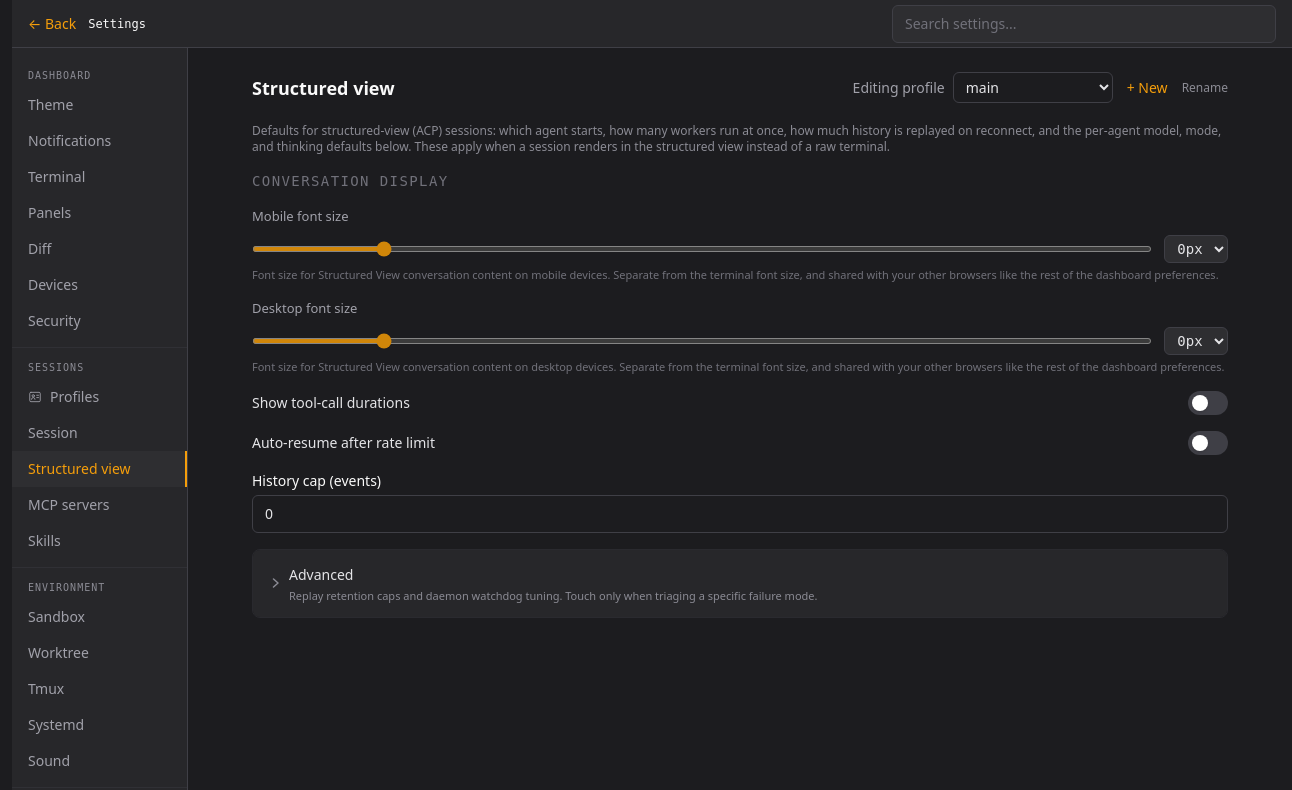
Test: Settings Advanced fold › collapses the fold when switching profiles (#4)
Check: the text "Show tool-call durations" is shown, box [252,393,410,413]
Click the button that starts with "Advanced" at (321, 574), box [253,550,1227,616]
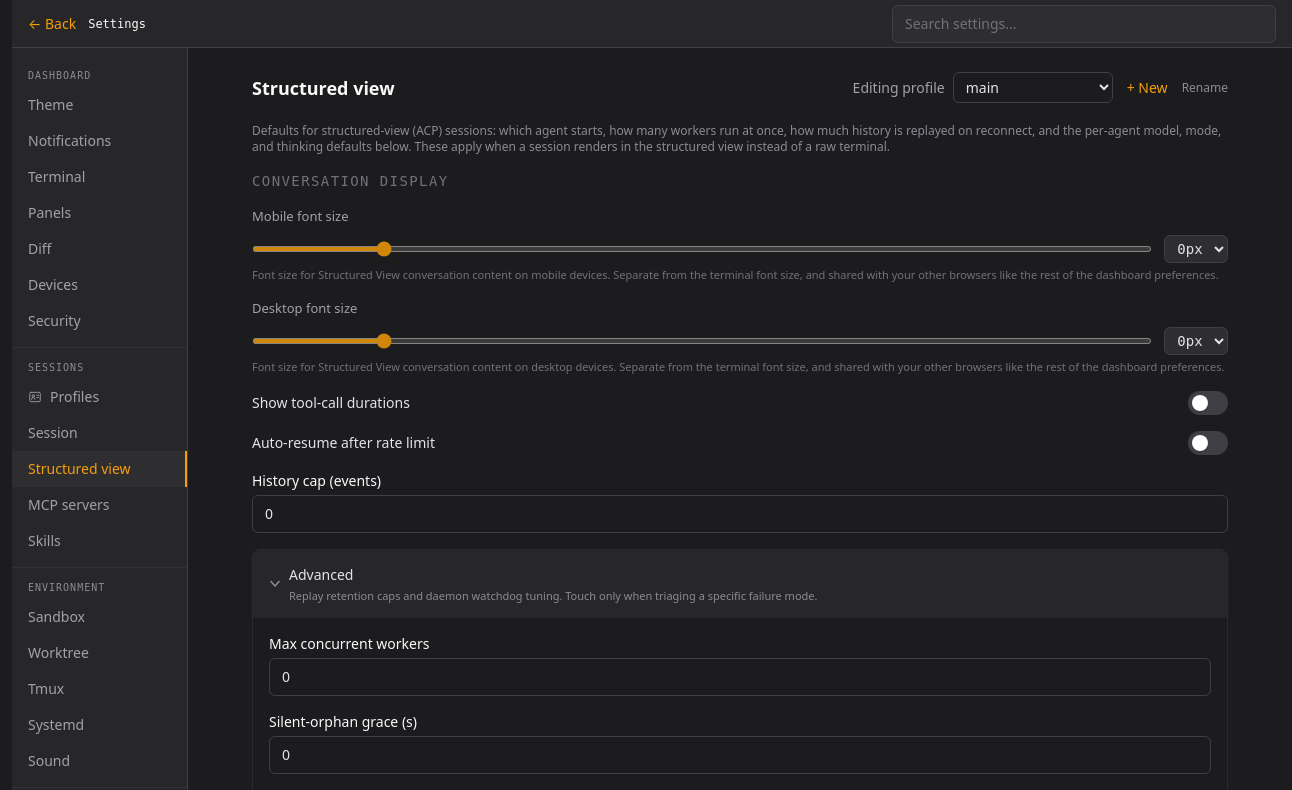
Check: the text "Silent-orphan grace (s)" is shown, box [269,712,417,730]
Select "work" in the dropdown labelled "Editing profile" at (1033, 88), box [953,72,1113,103]
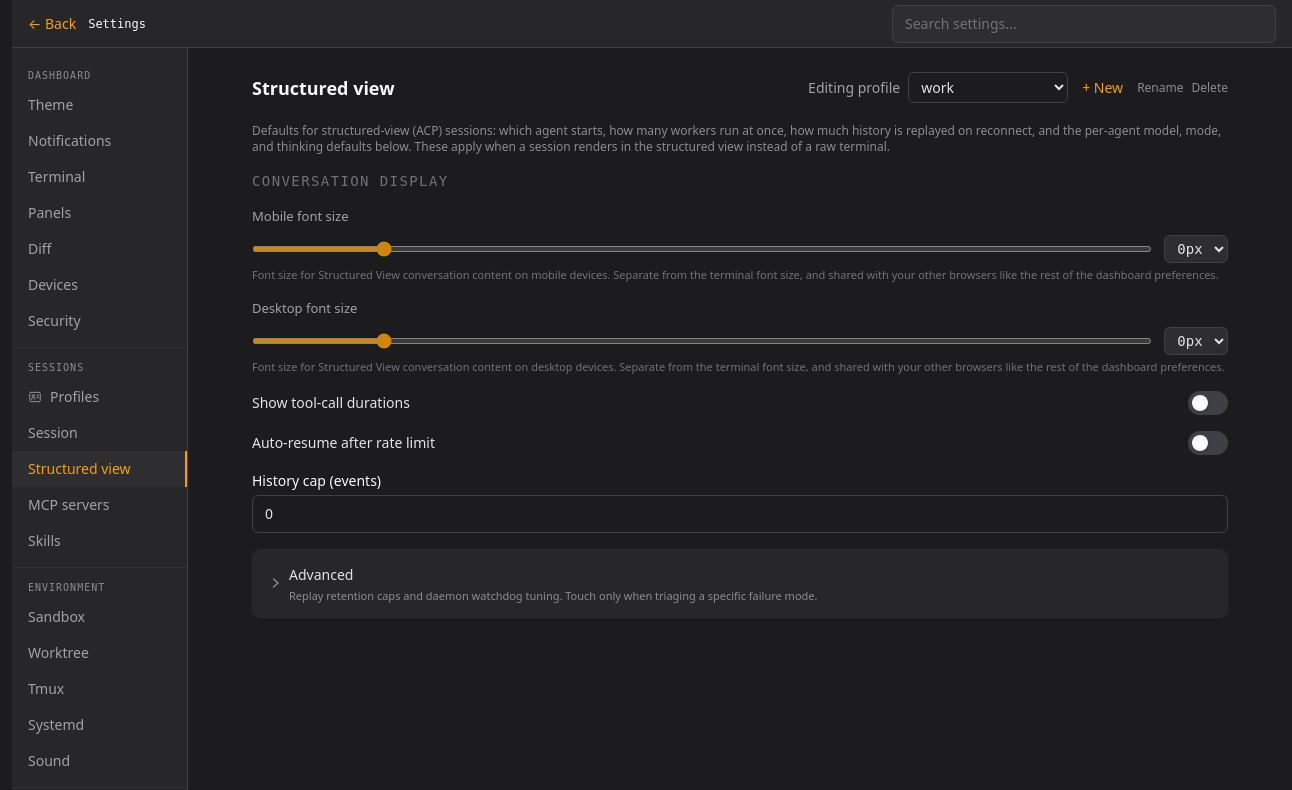
Check: the text "Silent-orphan grace (s)" is gone
